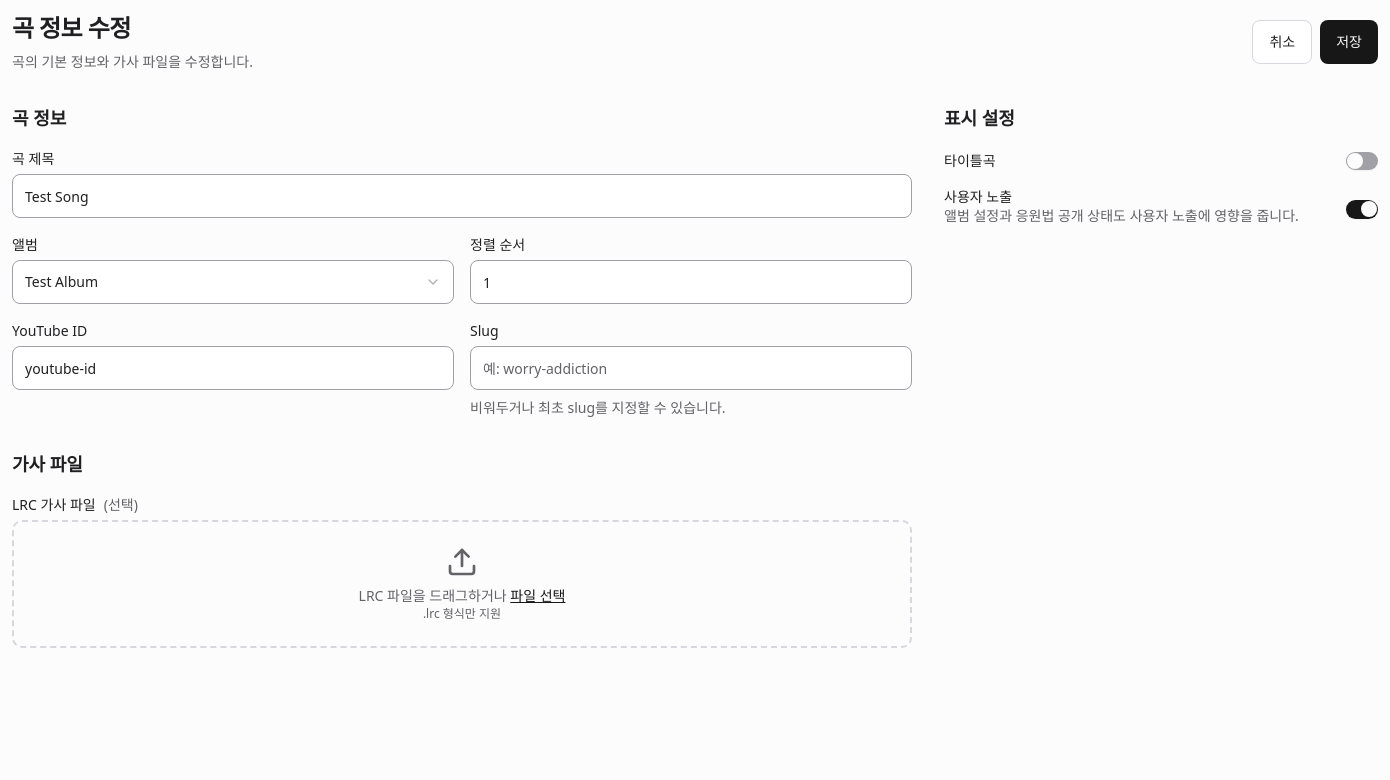
Test: SongForm slug policy › maps SONG_SLUG_IMMUTABLE to the slug field
This screenshot has width=1390, height=780.
Type "first-slug" into the field labelled "Slug" at (691, 368), box 470,346 -> 912,390
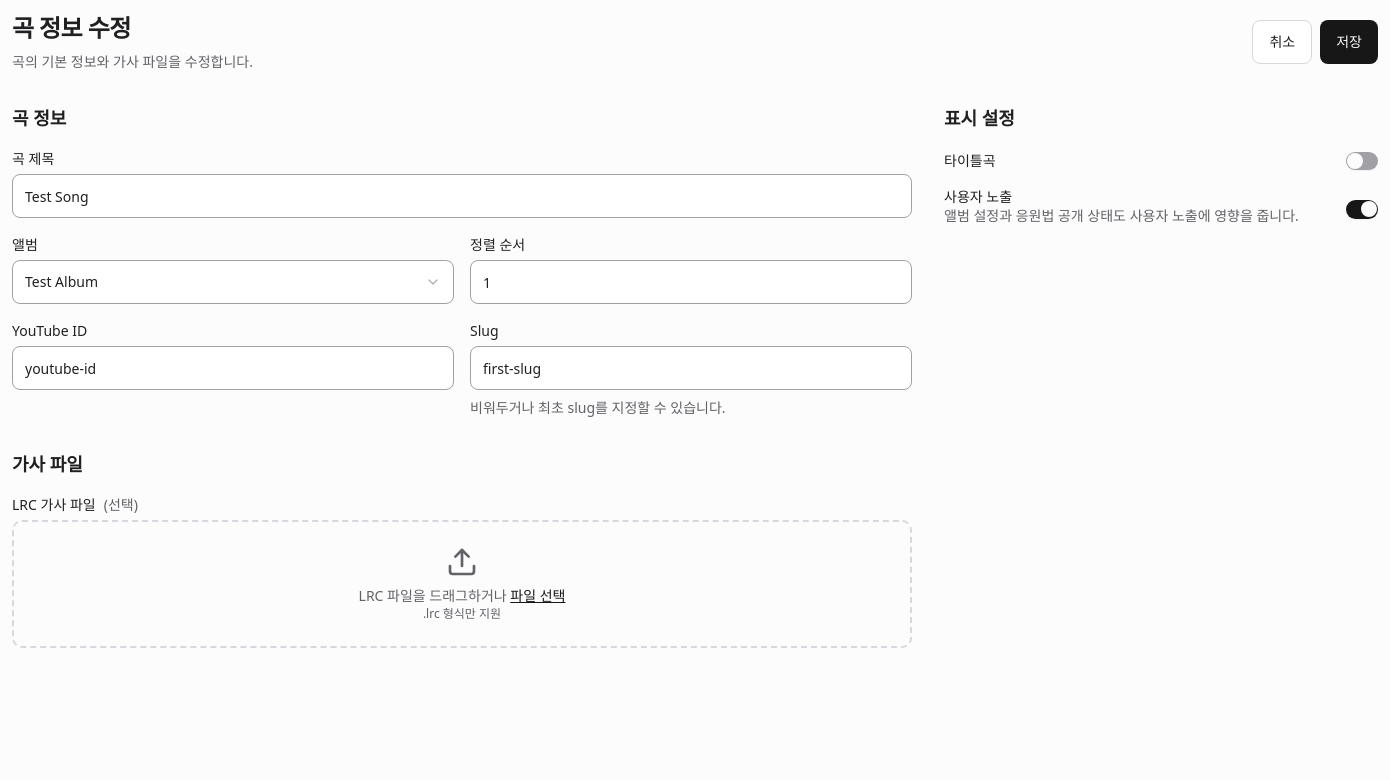
Click the button "저장" at (1349, 42), box 1320,20 -> 1378,64
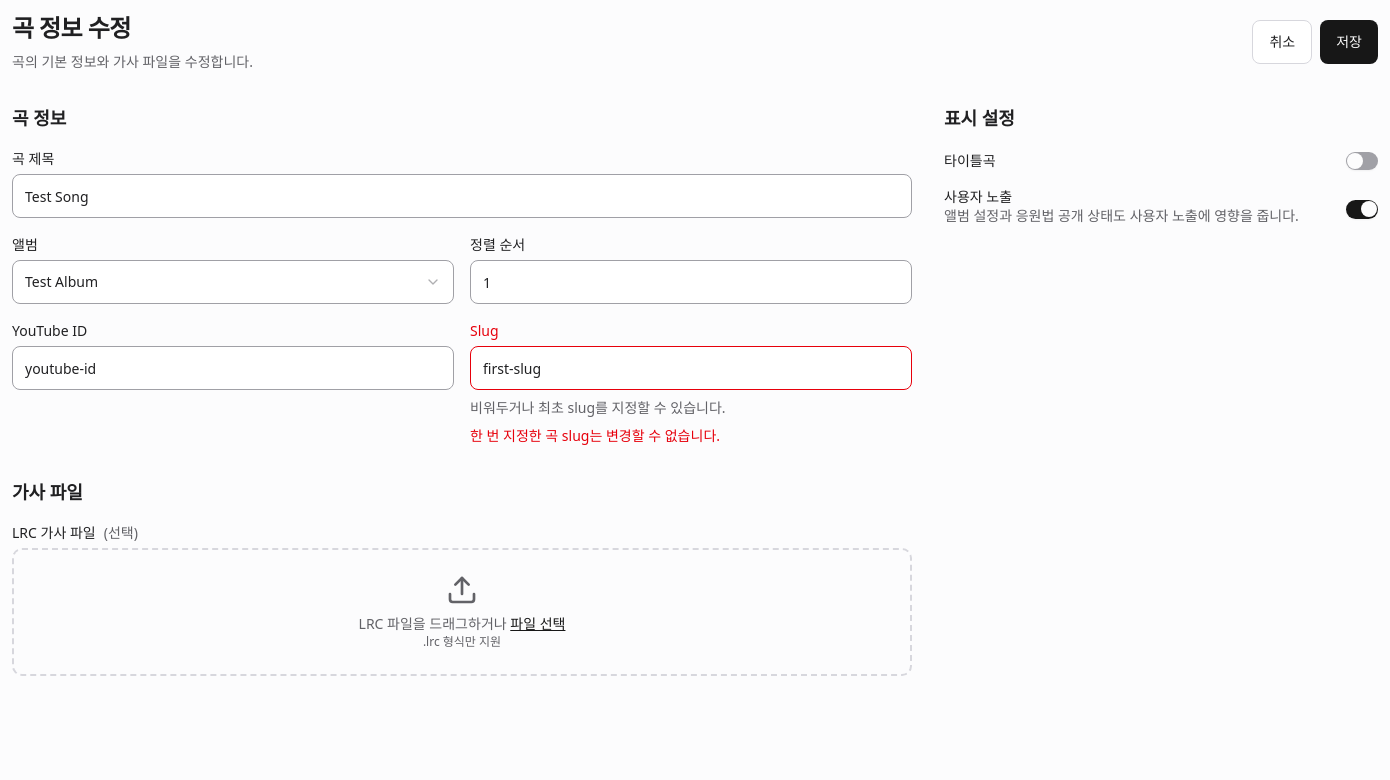
Now the text "한 번 지정한 곡 slug는 변경할 수 없습니다." is shown, box 470,426 -> 720,445
